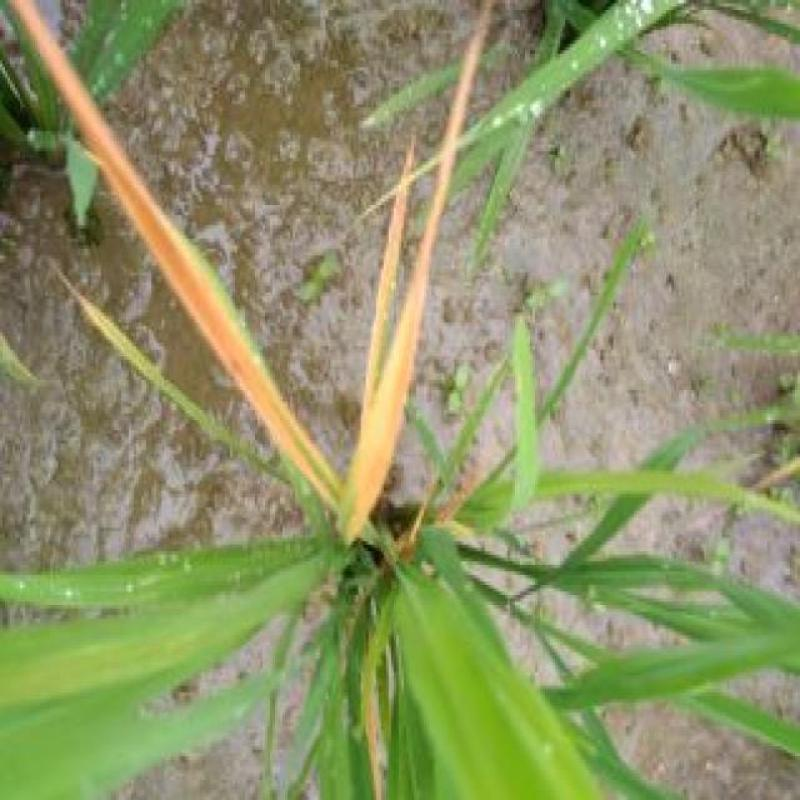Rice Tungro: (342, 7, 501, 485)
